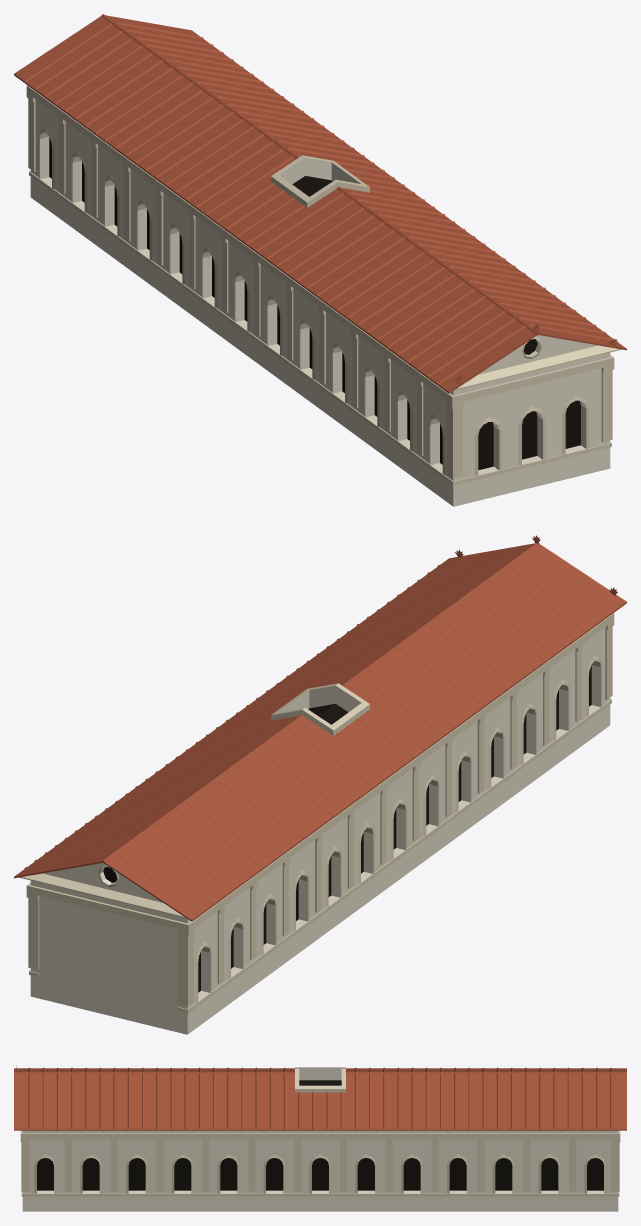
File: rome_tib_banquet_top.glb
3 views of the same model, one above another, from view 1: azimuth 30°, elevation 25°; view 2: azimuth 150°, elevation 25°; view 3: azimuth 270°, elevation 25° (orthographic). The views are drawn at different scales.
Parts seen in each view (by area): view 1: shell; view 2: shell; view 3: shell.
Boxes of the visible parts, <box> form: shell: <box>14,14,626,506</box>; shell: <box>14,535,626,1034</box>; shell: <box>14,1065,626,1211</box>.
Size of the model in its own units: 10.2 by 9.17 by 43.2.
